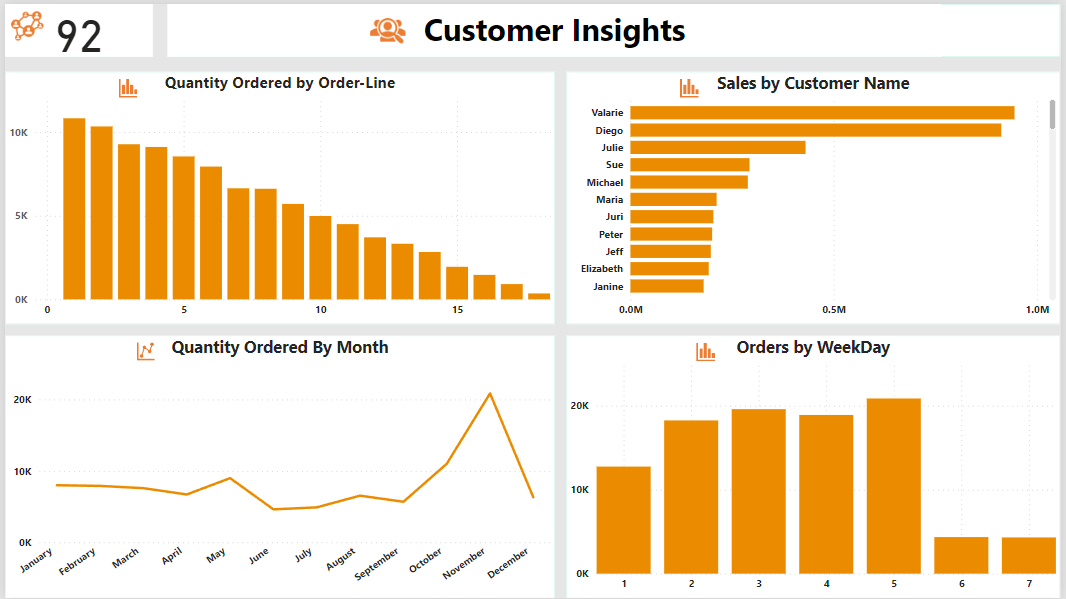

The page's visual inventory and layout, read from the dashboard file:
{"tool":"powerbi","page":{"name":"Customer Insights","canvas":[1280,720],"ordinal":4},"visuals":[{"type":"shape","box":[0,82.1,666.7,306.4],"z":0},{"type":"shape","box":[0,401.3,666.7,319.2],"z":1000},{"type":"shape","box":[0,0,179.2,63.8],"z":2000},{"type":"shape","box":[680.8,401.3,598.7,319.2],"z":3000},{"type":"shape","box":[197.4,0,1082.1,64.1],"z":4000},{"type":"textbox","box":[197.4,0,938.5,64.1],"z":5000},{"type":"shape","box":[680.8,82.1,598.7,306.4],"z":6000},{"type":"clusteredColumnChart","title":"Quantity Ordered by Order-Line","fields":{"Y":["Sum(sales_data_sample.QUANTITYORDERED)"],"Category":["sales_data_sample.ORDERLINENUMBER"]},"box":[0,82.1,666.7,306.4],"z":7000},{"type":"barChart","title":"Sales by Customer Name","fields":{"Category":["sales_data_sample.CONTACTFIRSTNAME"],"Y":["Sum(sales_data_sample.SALES)"]},"box":[680.8,82.1,598.7,306.4],"z":8000},{"type":"lineChart","title":"Quantity Ordered By Month","fields":{"Category":["sales_data_sample.ORDERDATE.Variation.Date Hierarchy.Year","sales_data_sample.ORDERDATE.Variation.Date Hierarchy.Quarter","sales_data_sample.ORDERDATE.Variation.Date Hierarchy.Month","sales_data_sample.ORDERDATE.Variation.Date Hierarchy.Day"],"Y":["Sum(sales_data_sample.QUANTITYORDERED)"]},"box":[0,401.3,666.7,319.2],"z":9000},{"type":"columnChart","title":"Orders by WeekDay","fields":{"Category":["sales_data_sample.weekday"],"Y":["Sum(sales_data_sample.QUANTITYORDERED)"]},"box":[680.8,401.3,598.7,319.2],"z":10000},{"type":"card","fields":{"Values":["Count(sales_data_sample.CUSTOMERNAME)"]},"box":[0,0,179.2,63.8],"z":11000},{"type":"image","box":[0,0,53.8,53.8],"z":12000},{"type":"image","box":[434.6,0,59,64.1],"z":13000},{"type":"image","box":[129.5,82.1,41,41],"z":14000},{"type":"image","box":[809,82.1,41,41],"z":15000},{"type":"image","box":[829.5,401.3,41,41],"z":16000},{"type":"image","box":[148.7,401.3,43.6,39.7],"z":17000}]}

Visuals, with their boxes in screenshot pixels (x1, y1, x2, y2), scaled from the page's 1280x720 canvas onto the 1066x599 screenshot:
shape: 0/68/555/323
shape: 0/334/555/598
shape: 0/0/149/53
shape: 567/334/1065/598
shape: 164/0/1065/53
textbox: 164/0/946/53
shape: 567/68/1065/323
"Quantity Ordered by Order-Line" clusteredColumnChart: 0/68/555/323
"Sales by Customer Name" barChart: 567/68/1065/323
"Quantity Ordered By Month" lineChart: 0/334/555/598
"Orders by WeekDay" columnChart: 567/334/1065/598
card - Count(sales_data_sample.CUSTOMERNAME): 0/0/149/53
image: 0/0/45/45
image: 362/0/411/53
image: 108/68/142/102
image: 674/68/708/102
image: 691/334/725/368
image: 124/334/160/367
